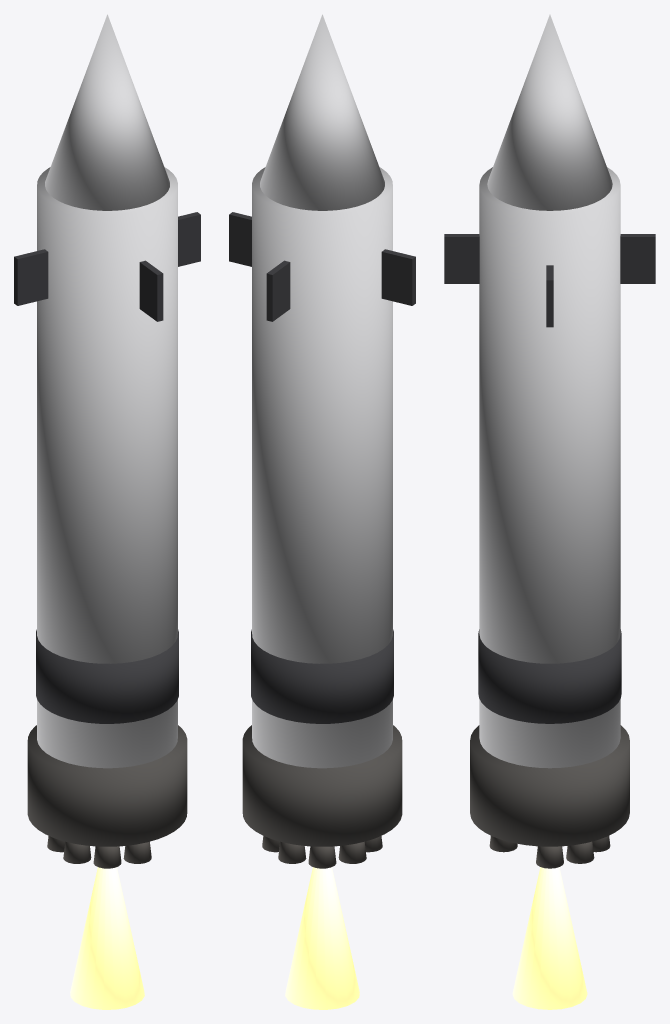
The model's file is rocket_ascent.glb.
3 renders of one model, left to right at view 1: azimuth 30°, elevation 25°; view 2: azimuth 150°, elevation 25°; view 3: azimuth 270°, elevation 25°, orthographic.
Visible parts, largest first — view 1: rocket_ascent_body, rocket_ascent_nose, rocket_ascent_eng, rocket_ascent_band, rocket_ascent_flame, rocket_ascent_fin2, rocket_ascent_fin3, rocket_ascent_fin0, rocket_ascent_noz6, rocket_ascent_noz5, rocket_ascent_noz7; view 2: rocket_ascent_body, rocket_ascent_nose, rocket_ascent_eng, rocket_ascent_band, rocket_ascent_flame, rocket_ascent_fin2, rocket_ascent_fin1, rocket_ascent_fin0, rocket_ascent_noz3, rocket_ascent_noz2, rocket_ascent_noz4; view 3: rocket_ascent_body, rocket_ascent_nose, rocket_ascent_eng, rocket_ascent_band, rocket_ascent_flame, rocket_ascent_fin1, rocket_ascent_fin3, rocket_ascent_noz0, rocket_ascent_noz1, rocket_ascent_fin0.
Boxes of the visible parts, x1,y1,x2,y2 form: rocket_ascent_body: (37,167,177,768); rocket_ascent_nose: (45,14,169,210); rocket_ascent_eng: (27,725,187,846); rocket_ascent_band: (36,629,178,723); rocket_ascent_flame: (70,867,144,1009); rocket_ascent_fin2: (14,249,48,305); rocket_ascent_fin3: (139,260,163,321); rocket_ascent_fin0: (178,212,200,266); rocket_ascent_noz6: (93,846,121,868); rocket_ascent_noz5: (63,841,91,863); rocket_ascent_noz7: (123,841,151,863); rocket_ascent_body: (252,167,392,768); rocket_ascent_nose: (260,14,384,210); rocket_ascent_eng: (242,725,402,846); rocket_ascent_band: (251,629,393,723); rocket_ascent_flame: (285,867,359,1009); rocket_ascent_fin2: (381,249,415,305); rocket_ascent_fin1: (266,260,290,321); rocket_ascent_fin0: (229,212,251,266); rocket_ascent_noz3: (308,846,336,868); rocket_ascent_noz2: (278,841,306,863); rocket_ascent_noz4: (338,841,366,863); rocket_ascent_body: (479,167,620,768); rocket_ascent_nose: (487,14,612,210); rocket_ascent_eng: (470,725,629,846); rocket_ascent_band: (478,629,621,723); rocket_ascent_flame: (512,867,587,1009); rocket_ascent_fin1: (620,234,655,283); rocket_ascent_fin3: (444,234,479,283); rocket_ascent_noz0: (536,846,563,868); rocket_ascent_noz1: (566,841,594,863); rocket_ascent_fin0: (546,265,553,327).
Bounding box in the file's own units: 0.9 × 4.6 × 0.9.
